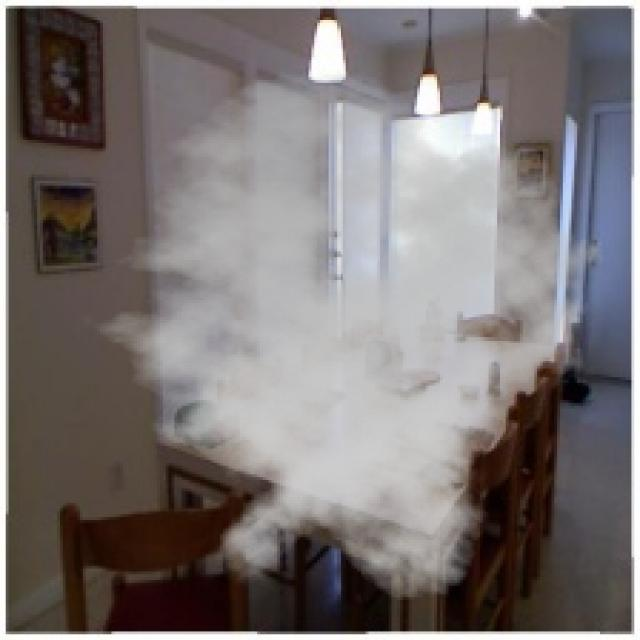smoke: (72, 71, 617, 603)
